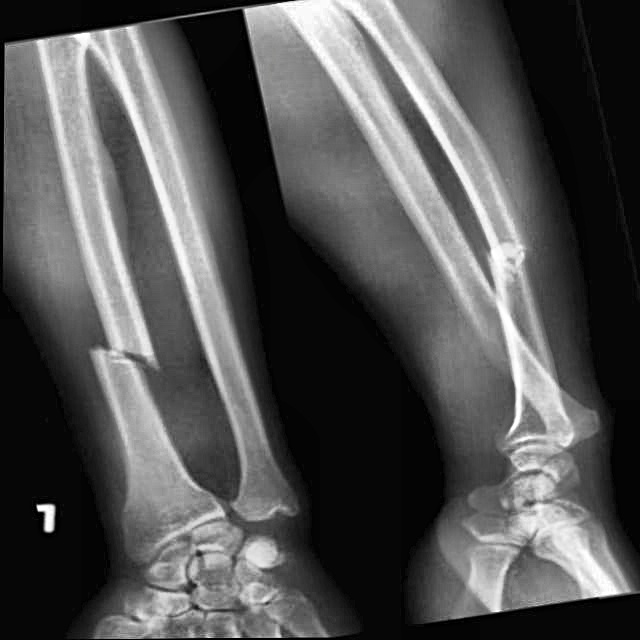Oblique Displaced: (77, 316, 182, 410)
Transverse Displaced: (469, 213, 550, 293)
